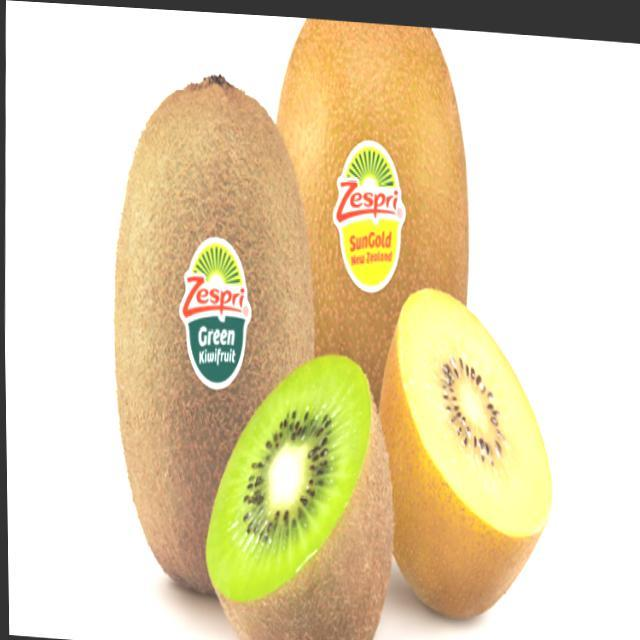kiwi: (105, 62, 322, 598), (269, 14, 475, 413)
